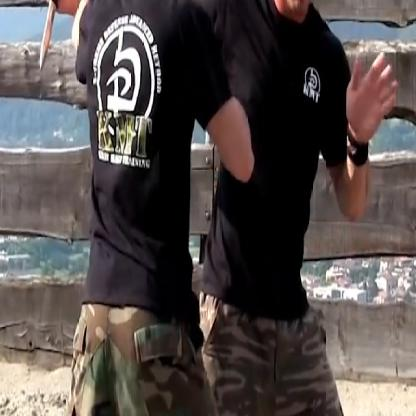knife: (29, 0, 76, 75)
